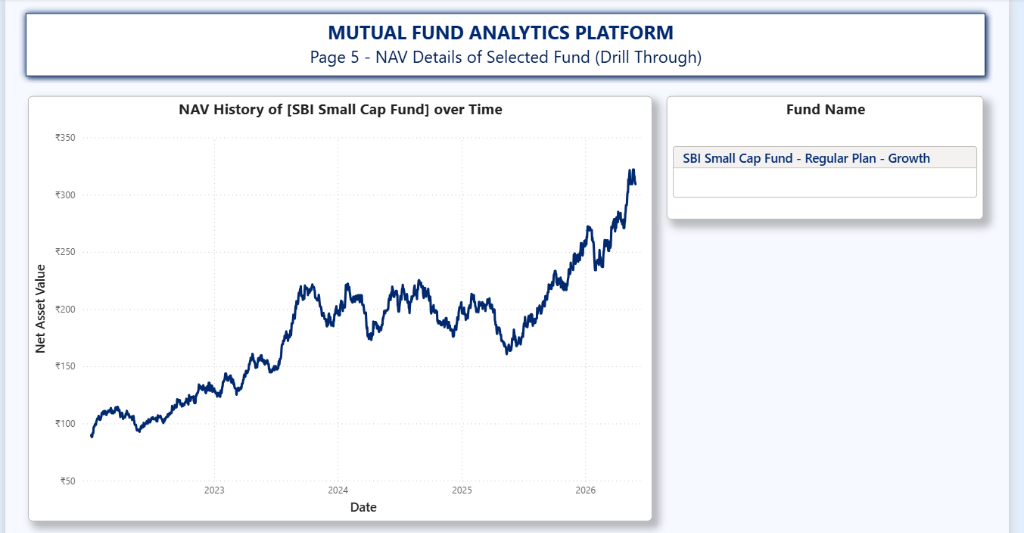

What the dashboard file says about the page in this screenshot:
{"tool":"powerbi","page":{"name":"NAV Details","canvas":[1280,720],"ordinal":4},"visuals":[{"type":"cardVisual","title":"Fund Name","fields":{"Rows":["01_fund_master.scheme_name"]},"box":[843.5,124.6,404.3,158],"z":0},{"type":"lineChart","fields":{"Category":["02_nav_history.date"],"Y":["Sum(02_nav_history.nav)"]},"box":[29,124.6,795.7,542],"z":1000},{"type":"shape","title":"industry","box":[17.4,10.1,1242,98.6],"z":2000},{"type":"textbox","box":[29,21.7,1218.8,87],"z":3000}]}

Visuals, with their boxes on the page's 1280x720 design canvas (x1, y1, x2, y2). These are canvas units, not pixel positions in the 1024x533 screenshot, which may show the page scaled, cropped or inside an application window:
"Fund Name" cardVisual: bbox=(844, 125, 1248, 283)
lineChart - 02_nav_history.date x Sum(02_nav_history.nav): bbox=(29, 125, 825, 667)
"industry" shape: bbox=(17, 10, 1259, 109)
textbox: bbox=(29, 22, 1248, 109)
